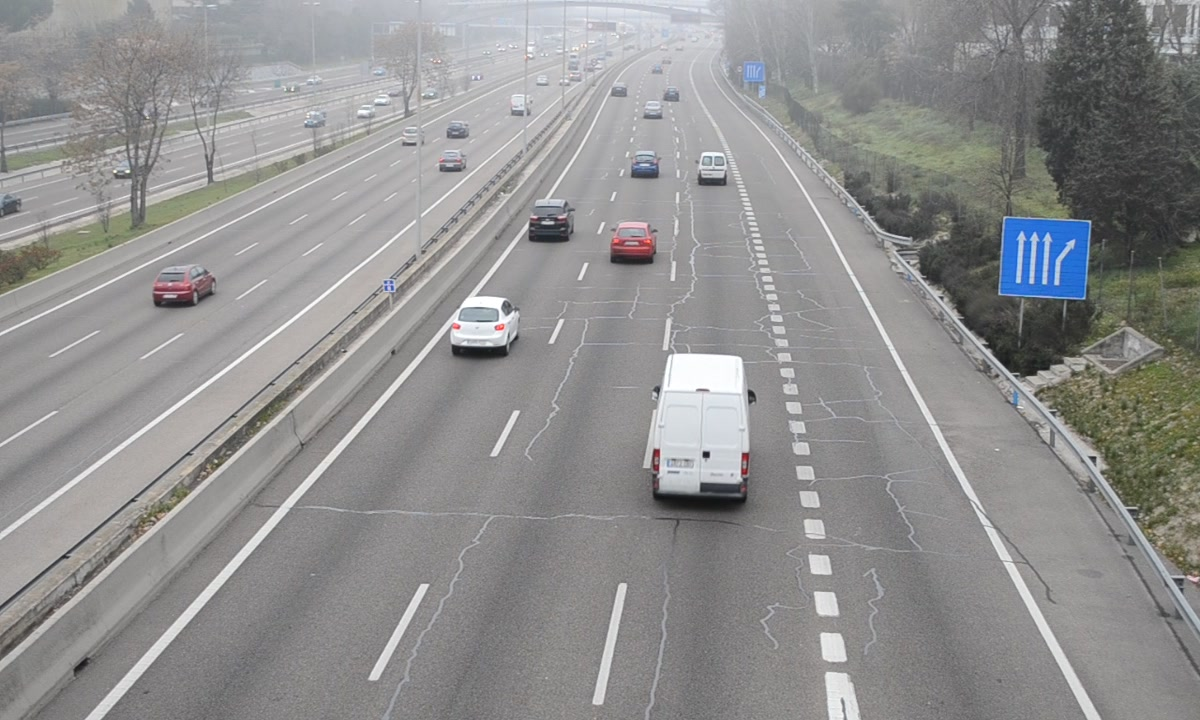car: (450, 297, 519, 348), (528, 199, 574, 240), (610, 221, 656, 261), (632, 151, 660, 177)
van: (651, 353, 753, 504), (697, 151, 730, 188)
